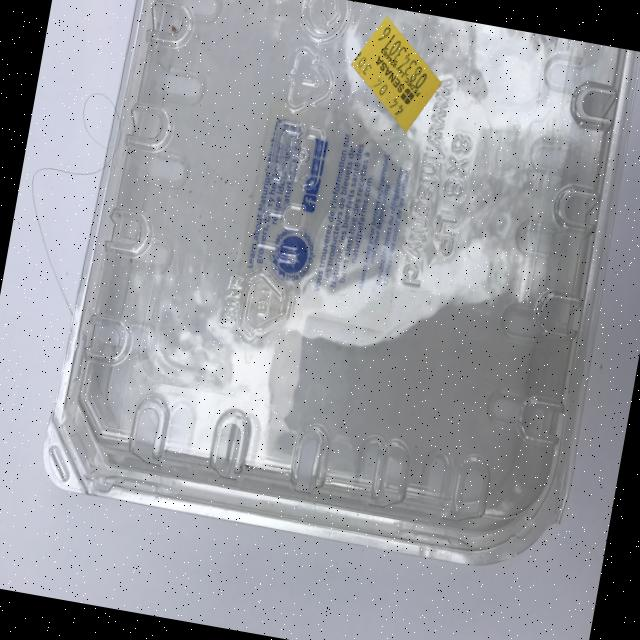plastic: (37, 0, 640, 575)
